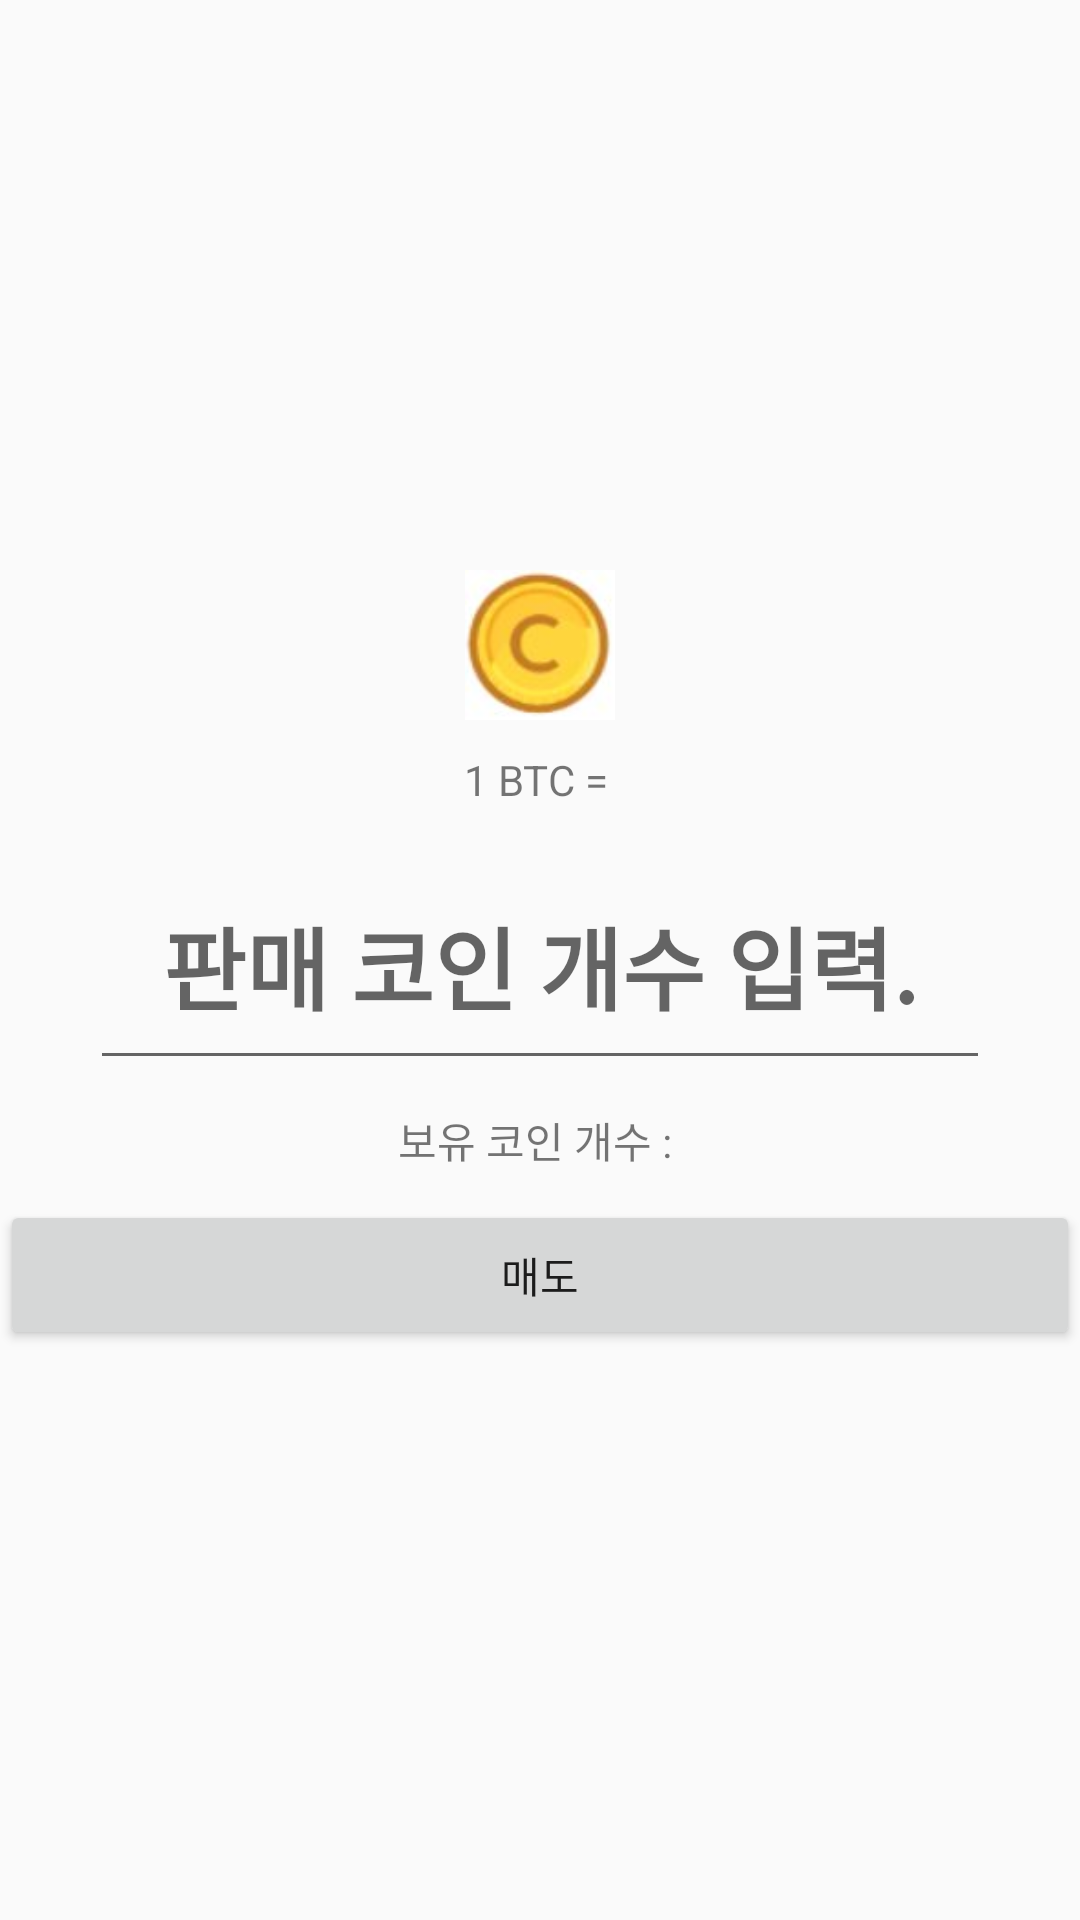

Point at icon controls on the screen. Image size 1080px×1920px, points as point (x, y).
coin: point (538, 643)
